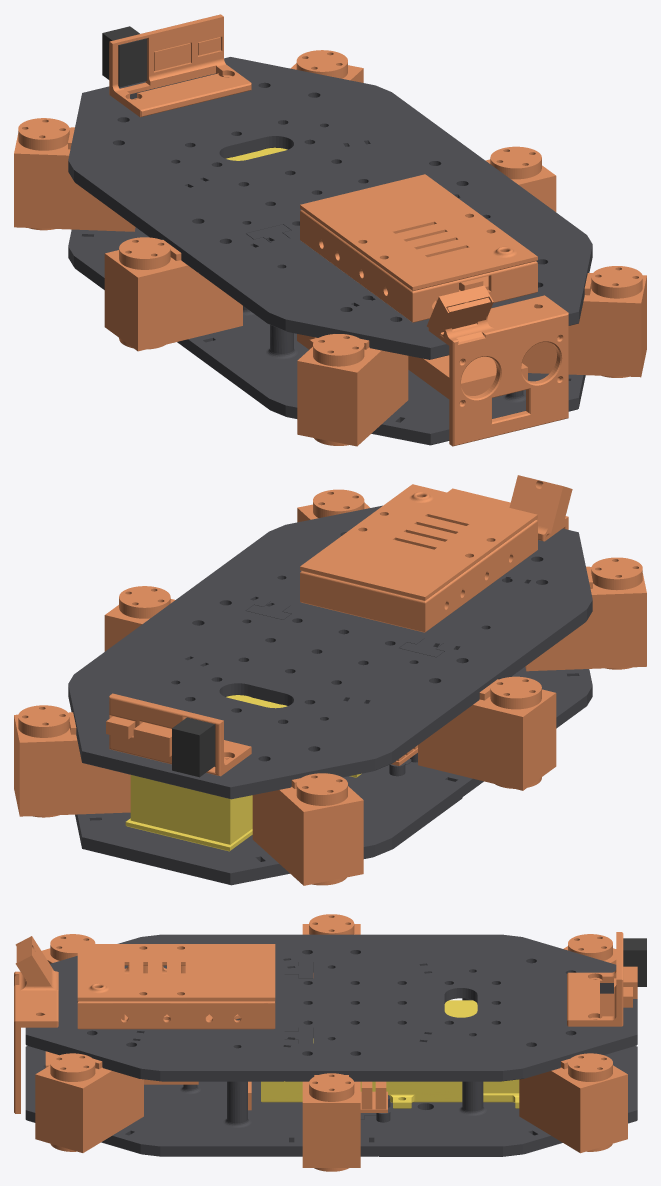
Rendered from body.glb.
3 views of the same model, one above another, from view 1: azimuth 30°, elevation 25°; view 2: azimuth 150°, elevation 25°; view 3: azimuth 270°, elevation 25° (orthographic). The views are drawn at different scales.
Parts seen in each view (by area): view 1: body; view 2: body; view 3: body.
Boxes of the visible parts, x1,y1,x2,y2 form: body: (14,14,646,446); body: (14,475,646,885); body: (14,914,646,1171).
Size of the model in its own units: 0.1802 by 0.0744 by 0.269.
